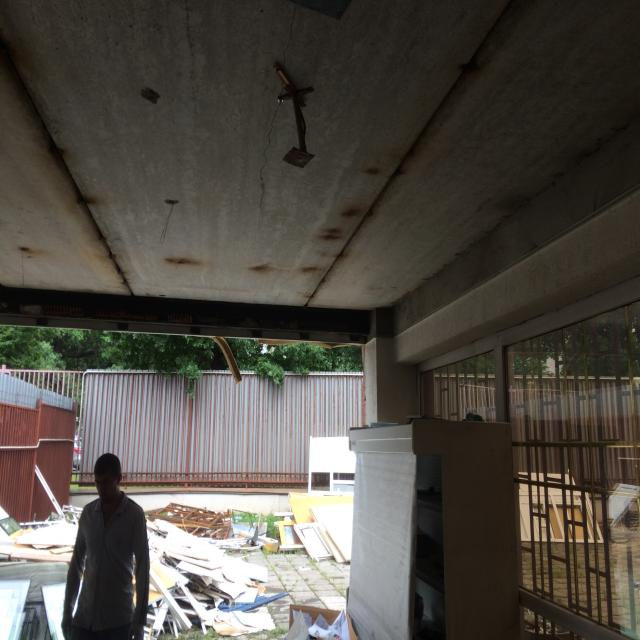NoHelmet: (93, 454, 124, 502)
